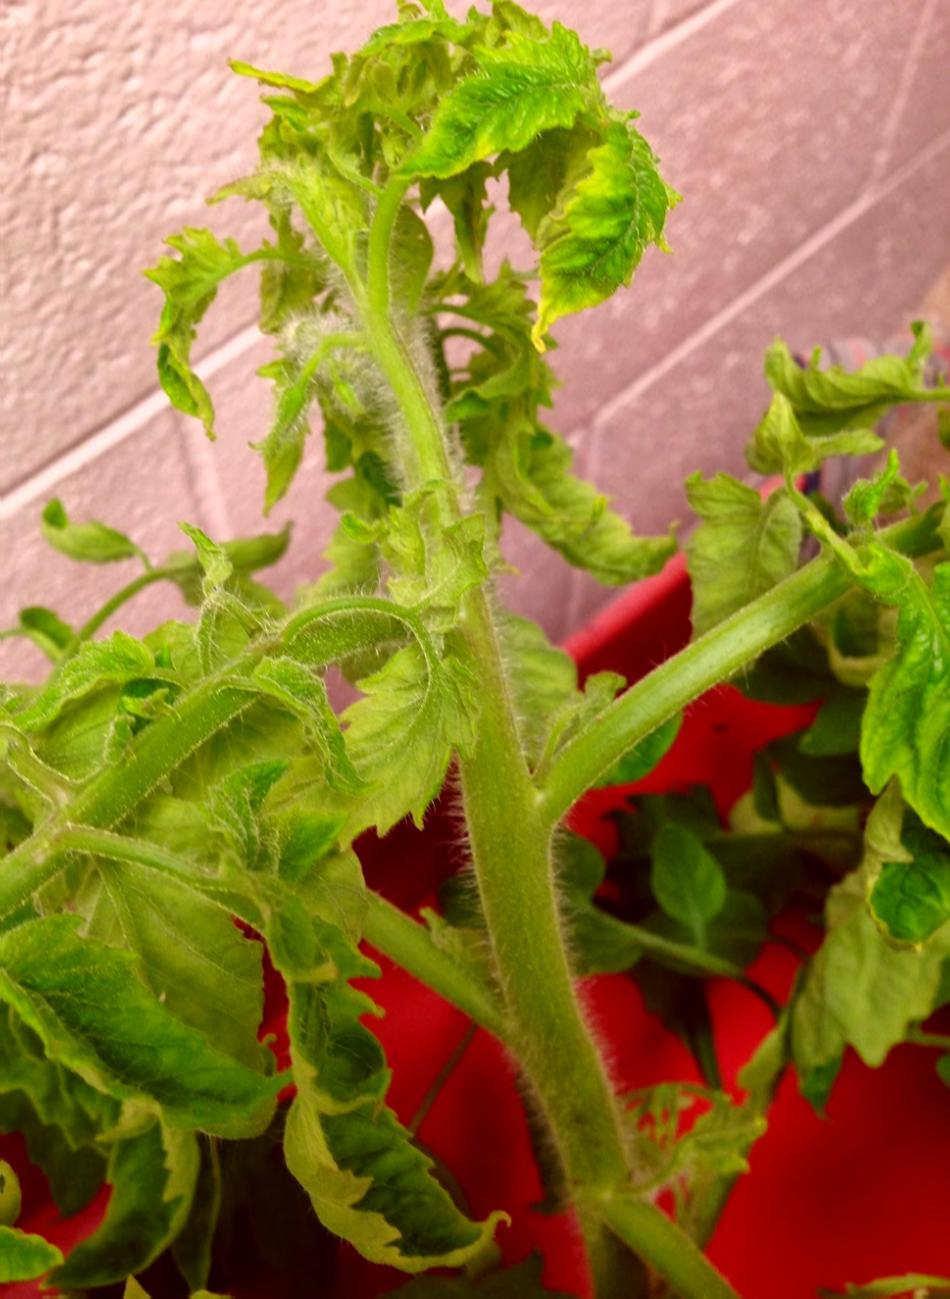Tomato leaf yellow virus: (251, 876, 498, 1299), (0, 906, 269, 1162), (503, 118, 685, 387), (279, 617, 473, 847), (380, 0, 587, 213), (832, 521, 950, 889)
